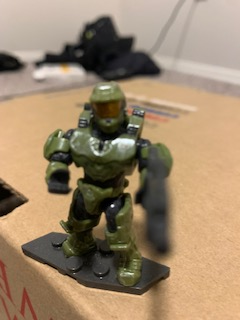chief: (41, 81, 173, 288)
spartan: (39, 79, 171, 286)
